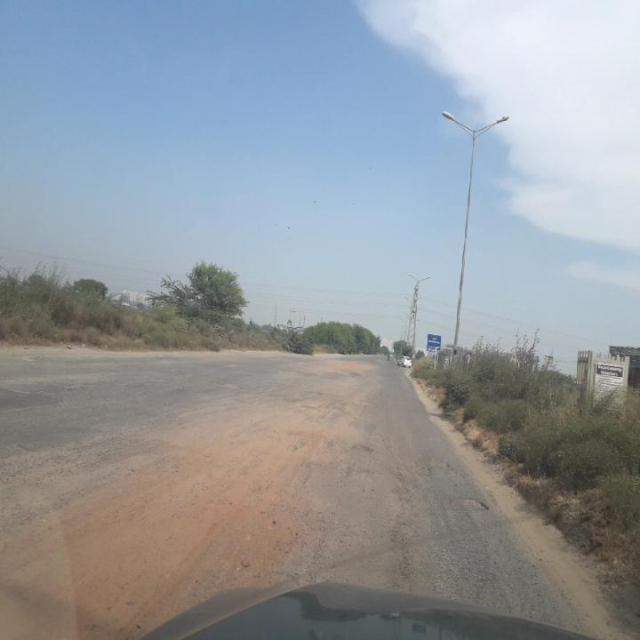Surface Erosion: (76, 309, 540, 603)
